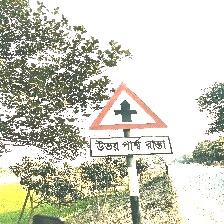Crossroad: (88, 83, 172, 157)
